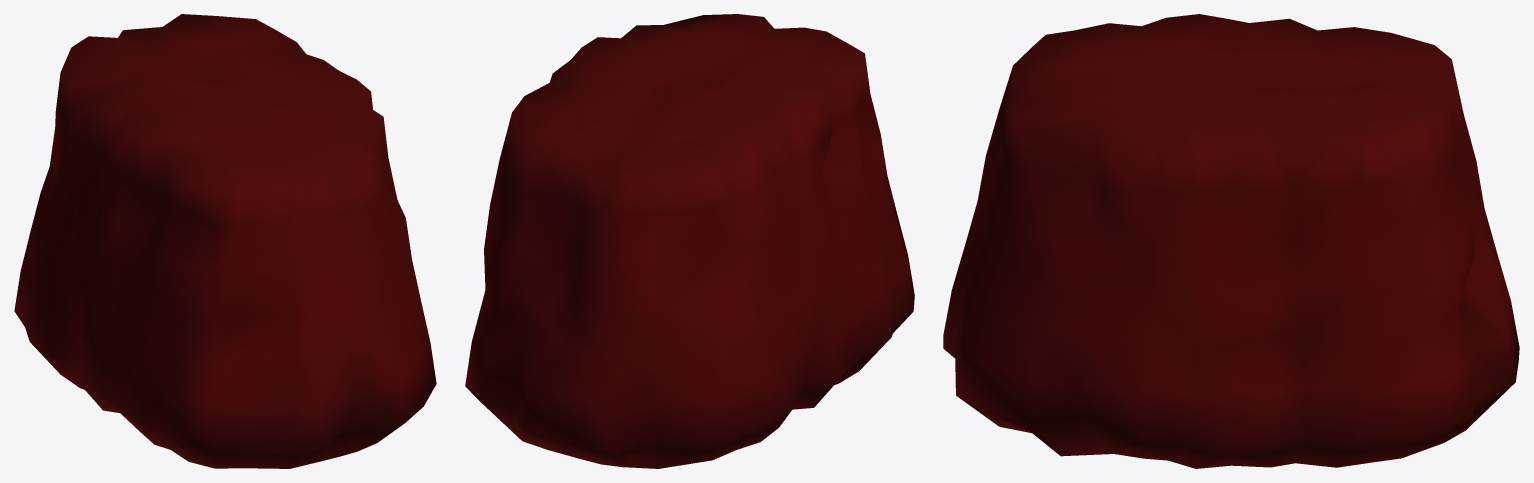
File: geology-landforms-rockplateautiny_v1.fbx
The picture shows the model from 3 angles, left to right: view 1: azimuth 30°, elevation 25°; view 2: azimuth 150°, elevation 25°; view 3: azimuth 270°, elevation 25°; orthographic projection. The views are drawn at different scales.
Parts seen in each view (by area): view 1: RockPlateauTiny_v1; view 2: RockPlateauTiny_v1; view 3: RockPlateauTiny_v1.
Boxes of the visible parts, left/top/right/bottom form: RockPlateauTiny_v1: left=14, top=14, right=436, bottom=468; RockPlateauTiny_v1: left=465, top=14, right=914, bottom=468; RockPlateauTiny_v1: left=943, top=14, right=1519, bottom=468.
Bounding box in the file's own units: 23.6 × 21.96 × 34.45.
